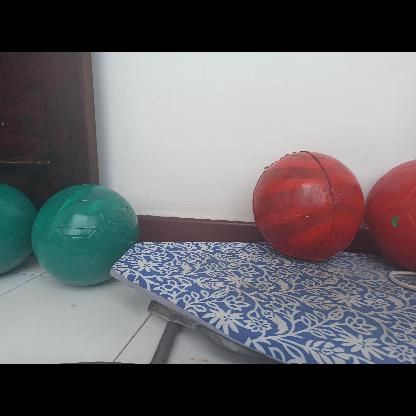red_ball: (252, 150, 364, 262)
